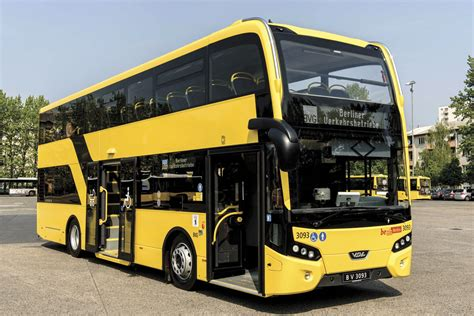bus: (36, 36, 411, 296)
